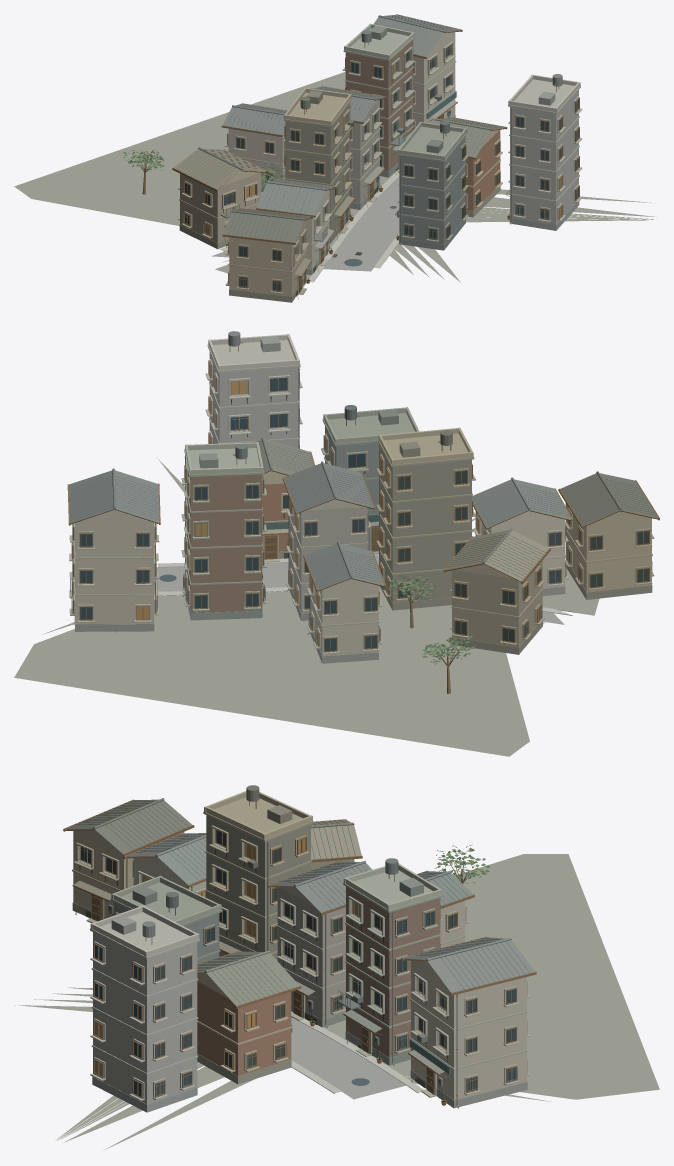
The model's file is street_2_4.glb.
The picture shows the model from 3 angles, top to bottom: view 1: azimuth 30°, elevation 25°; view 2: azimuth 150°, elevation 25°; view 3: azimuth 270°, elevation 25°; orthographic projection. The views are drawn at different scales.
Parts seen in each view (by area): view 1: trim.002, ground.081, plaster.002, graybrick.002, concrete.001, roof_tile.001, wood.002, brick, glass.002, roof_metal.002, road.016, metal.002 (+2 smaller); view 2: ground.081, plaster.002, trim.002, roof_tile.001, graybrick.002, concrete.001, wood.002, brick, glass.002, roof_metal.002, metal.002, road.016 (+2 smaller); view 3: ground.081, trim.002, plaster.002, roof_tile.001, concrete.001, brick, graybrick.002, wood.002, glass.002, roof_metal.002, road.016, metal.002 (+3 smaller).
Part boxes in pixels (left/top/right/bottom): trim.002: left=178, top=28, right=582, bottom=294; ground.081: left=14, top=72, right=657, bottom=295; plaster.002: left=223, top=23, right=580, bottom=296; graybrick.002: left=179, top=102, right=579, bottom=302; concrete.001: left=180, top=90, right=578, bottom=242; roof_tile.001: left=198, top=14, right=505, bottom=242; wood.002: left=134, top=14, right=579, bottom=296; brick: left=345, top=40, right=500, bottom=211; glass.002: left=185, top=46, right=578, bottom=291; roof_metal.002: left=174, top=25, right=555, bottom=275; road.016: left=211, top=177, right=399, bottom=271; metal.002: left=176, top=30, right=562, bottom=291; ground.081: left=14, top=458, right=599, bottom=756; plaster.002: left=75, top=334, right=651, bottom=656; trim.002: left=69, top=340, right=654, bottom=654; roof_tile.001: left=68, top=437, right=657, bottom=589; graybrick.002: left=74, top=426, right=652, bottom=663; concrete.001: left=209, top=352, right=542, bottom=647; wood.002: left=67, top=360, right=659, bottom=693; brick: left=186, top=462, right=288, bottom=612; glass.002: left=73, top=362, right=648, bottom=651; roof_metal.002: left=199, top=336, right=549, bottom=581; metal.002: left=70, top=331, right=652, bottom=646; road.016: left=156, top=555, right=564, bottom=624; ground.081: left=15, top=854, right=659, bottom=1149; trim.002: left=72, top=797, right=530, bottom=1101; plaster.002: left=73, top=791, right=526, bottom=1100; roof_tile.001: left=65, top=798, right=535, bottom=1005; concrete.001: left=93, top=859, right=354, bottom=1104; brick: left=197, top=886, right=440, bottom=1076; graybrick.002: left=72, top=815, right=527, bottom=1112; wood.002: left=63, top=799, right=536, bottom=1098; glass.002: left=81, top=830, right=515, bottom=1096; roof_metal.002: left=73, top=805, right=444, bottom=1074; road.016: left=291, top=1017, right=406, bottom=1099; metal.002: left=77, top=785, right=517, bottom=1108.
Size of the model in its own units: 51.75 by 14.22 by 47.43.
